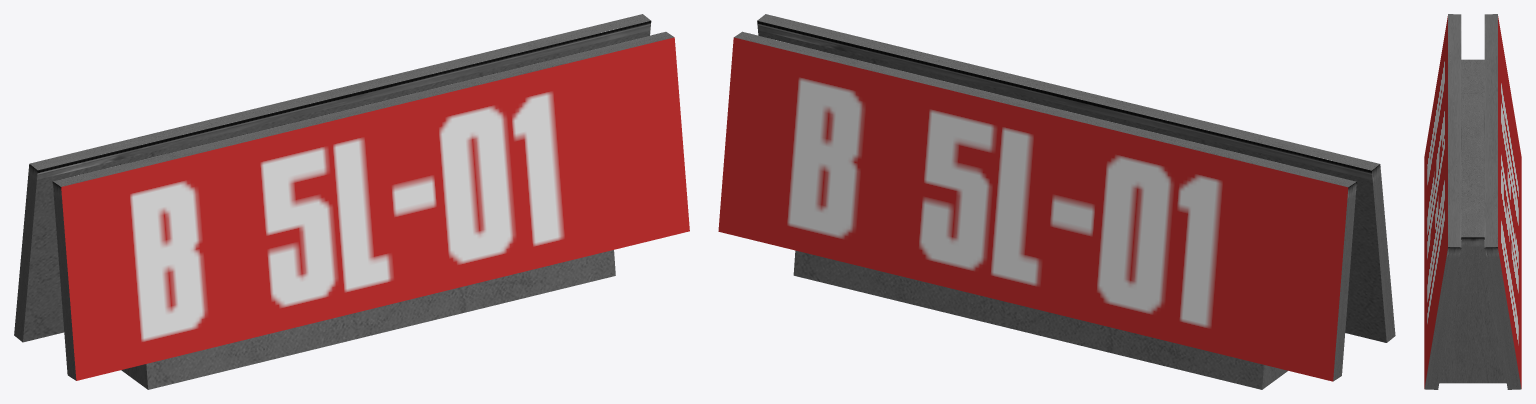
File: sign_b.FBX
3 renders of one model, left to right at view 1: azimuth 30°, elevation 25°; view 2: azimuth 150°, elevation 25°; view 3: azimuth 270°, elevation 25°, orthographic. The views are drawn at different scales.
Visible parts, largest first — view 1: sign_b; view 2: sign_b; view 3: sign_b.
Boxes of the visible parts, x1,y1,x2,y2 form: sign_b: [14, 14, 689, 389]; sign_b: [718, 14, 1395, 389]; sign_b: [1424, 14, 1521, 389].
Bounding box in the file's own units: 10.67 × 3.5 × 1.88.
